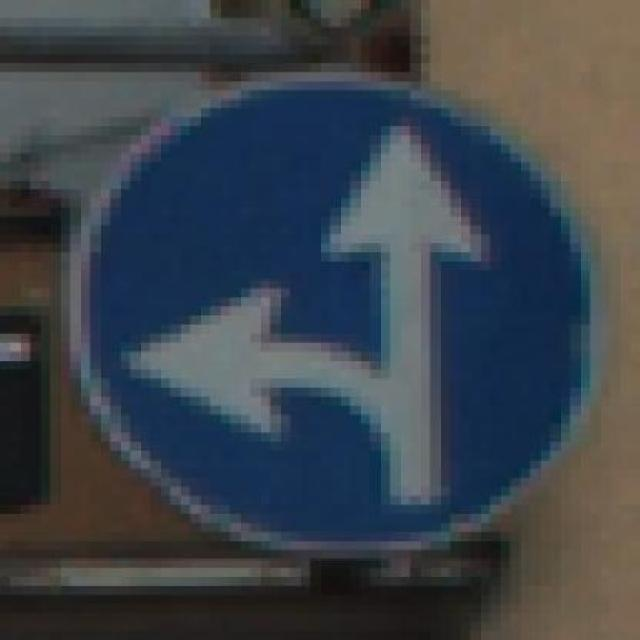Go straight or turn left: (40, 72, 620, 586)
